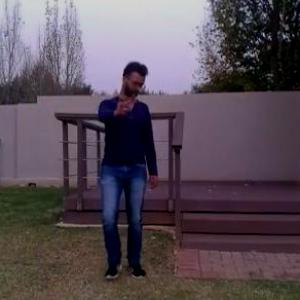takeoff-hand: (112, 84, 139, 119)
